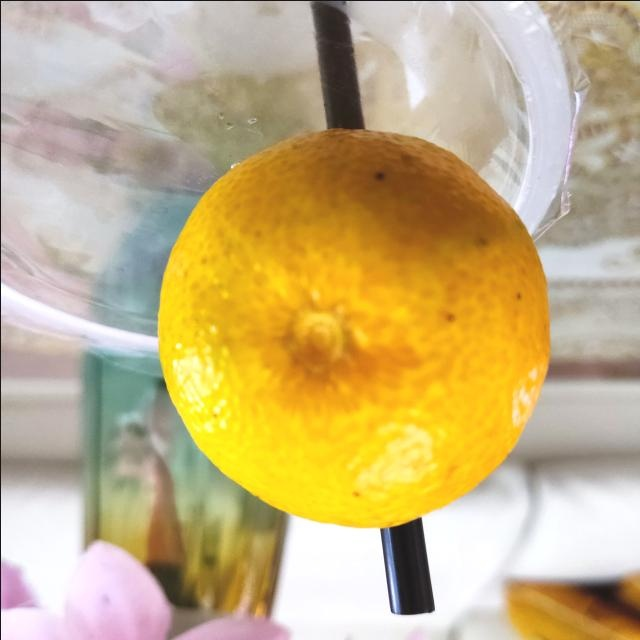agrume: (156, 131, 552, 531)
